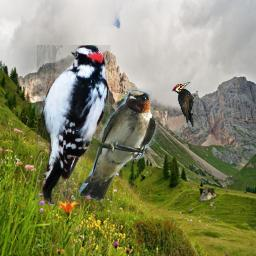Swallow: (77, 88, 157, 202)
Woodpecker: (33, 45, 113, 204), (171, 82, 198, 127)
